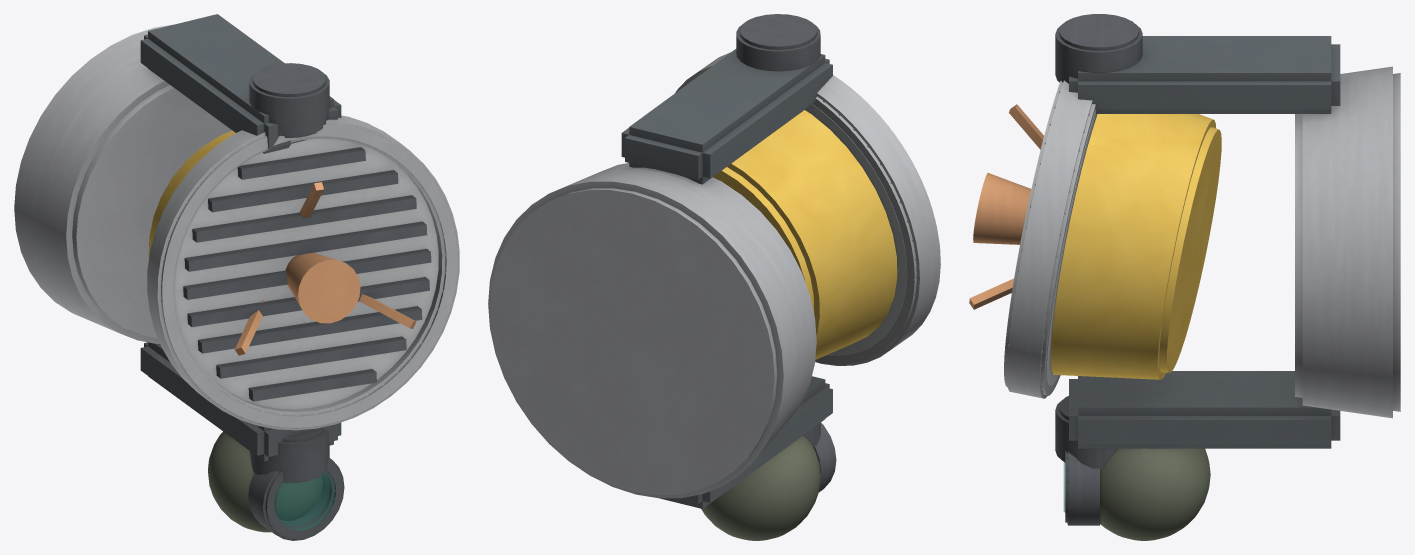
File: att_bow_radar.glb
3 renders of one model, left to right at view 1: azimuth 30°, elevation 25°; view 2: azimuth 150°, elevation 25°; view 3: azimuth 270°, elevation 25°, orthographic. The views are drawn at different scales.
Parts seen in each view (by area): view 1: TEX_Bow_Radar_Mesh, BowRadar_IRSTLens_Glass.001; view 2: TEX_Bow_Radar_Mesh; view 3: TEX_Bow_Radar_Mesh.
Part boxes in pixels (x1,y1,x2,y2): TEX_Bow_Radar_Mesh: (14, 14, 459, 540); BowRadar_IRSTLens_Glass.001: (274, 471, 335, 530); TEX_Bow_Radar_Mesh: (488, 14, 940, 540); TEX_Bow_Radar_Mesh: (969, 14, 1400, 540).
Bounding box in the file's own units: 0.4711 × 0.738 × 0.5721.
2 materials, 1 textured.
